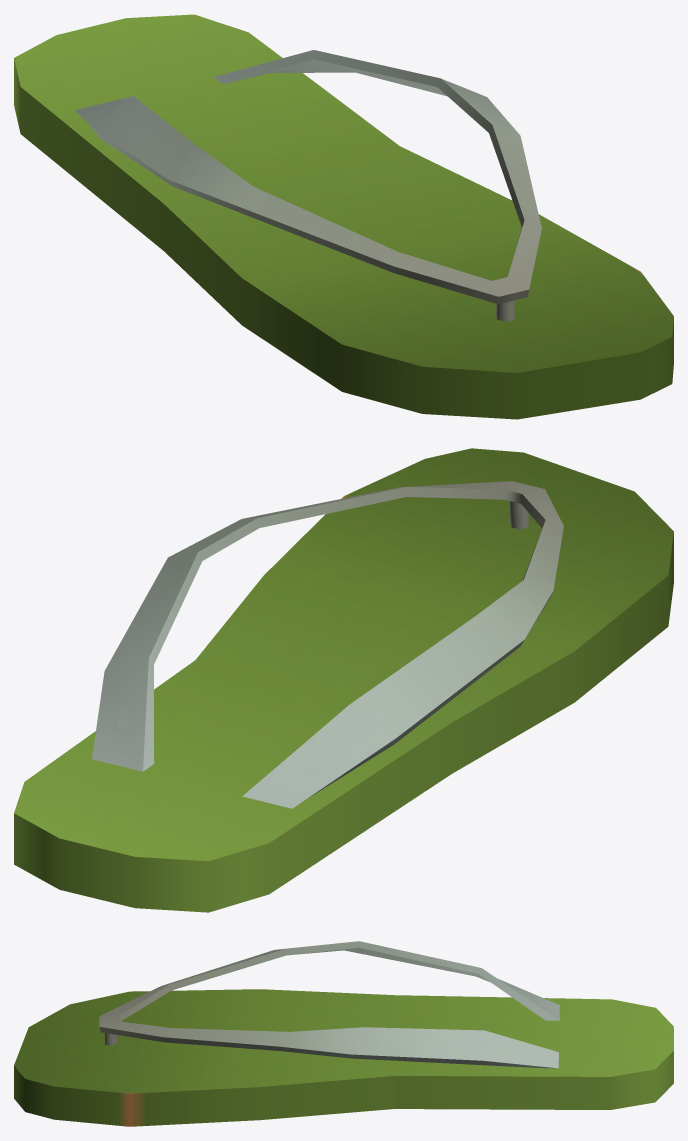
The model's file is SM_Sandal_Single_1_03.fbx.
The picture shows the model from 3 angles, top to bottom: view 1: azimuth 30°, elevation 25°; view 2: azimuth 150°, elevation 25°; view 3: azimuth 270°, elevation 25°; orthographic projection. The views are drawn at different scales.
Visible parts, largest first — view 1: SM_Sandal_Single_1_03; view 2: SM_Sandal_Single_1_03; view 3: SM_Sandal_Single_1_03.
Part boxes in pixels (box(x1,y1,x2,y2)): SM_Sandal_Single_1_03: box(14, 14, 673, 419); SM_Sandal_Single_1_03: box(14, 448, 673, 912); SM_Sandal_Single_1_03: box(14, 941, 673, 1126).
Bounding box in the file's own units: 12 × 4.47 × 30.26.
